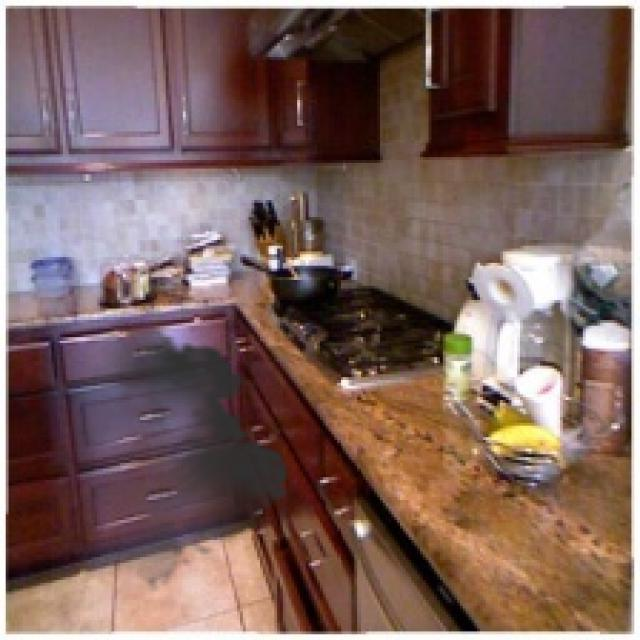Smoke: (23, 320, 300, 594)
